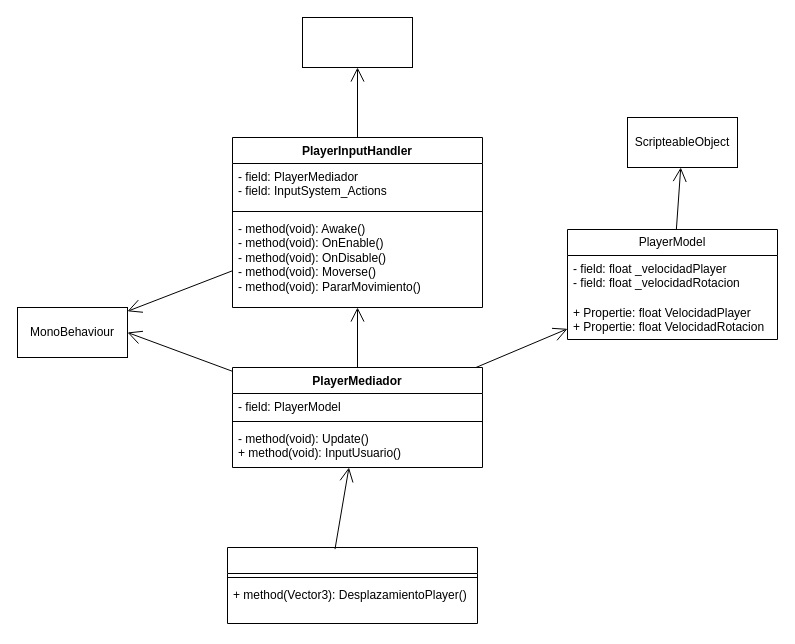
Image size: 795x644. Some labels were removed from this diagram. Here are the shapes that lost their labels. From the top down, the box of each, then its label:
(302, 16, 412, 68): Input
(226, 546, 478, 624): PlayerController
